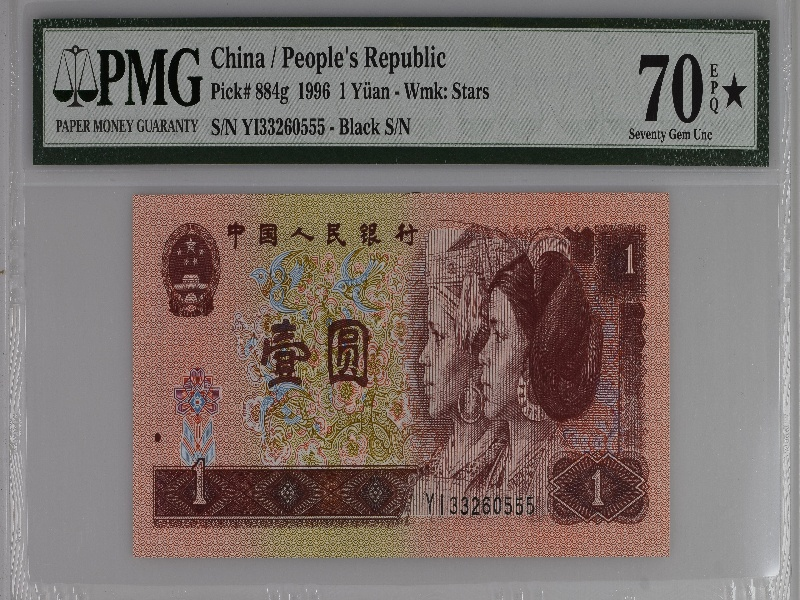papernote: (130, 184, 672, 561)
